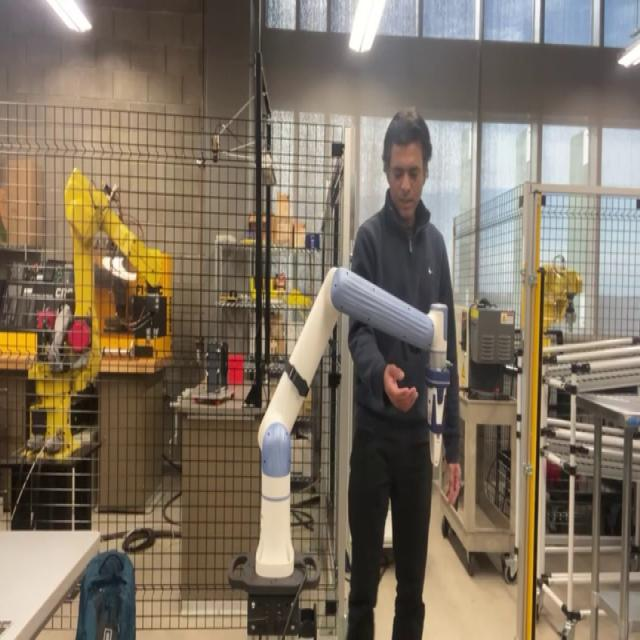robot: (246, 256, 463, 587)
